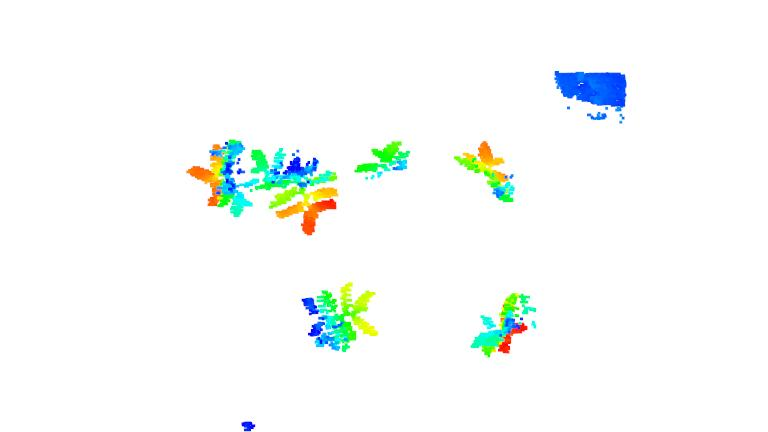chickpea: (250, 143, 341, 234), (299, 280, 383, 352), (190, 136, 256, 219), (469, 291, 540, 359), (454, 139, 517, 205), (350, 139, 419, 183)
